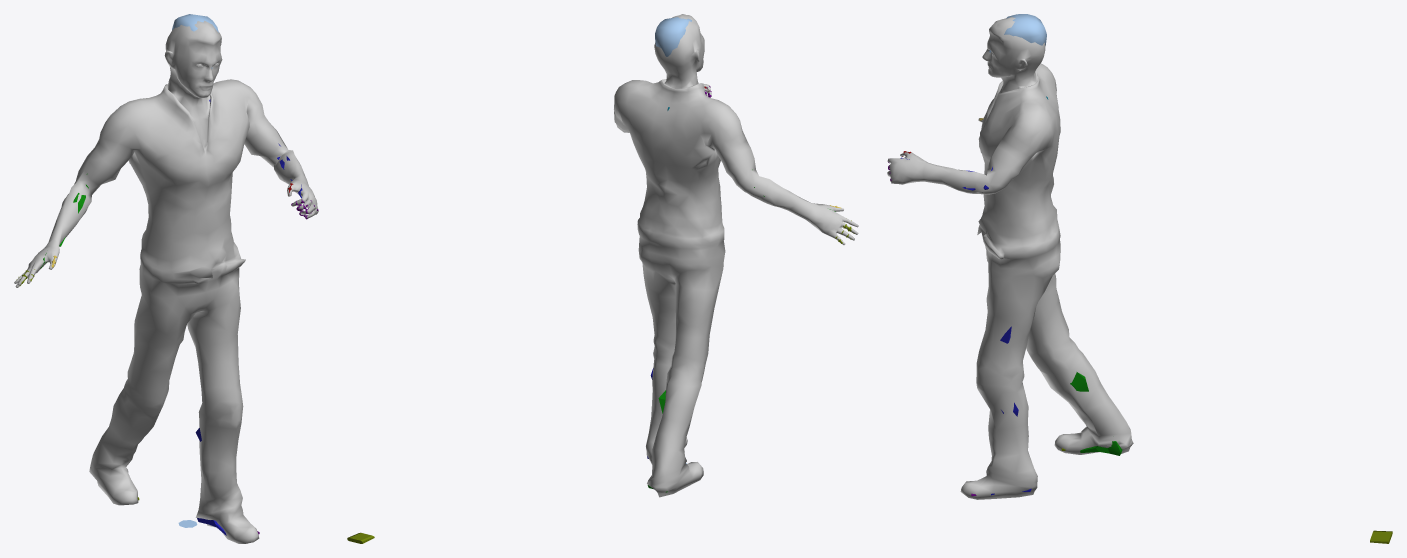
Rendered from UrbanPoliceOfficer.obj.
The picture shows the model from 3 angles, left to right: view 1: azimuth 30°, elevation 25°; view 2: azimuth 150°, elevation 25°; view 3: azimuth 270°, elevation 25°; orthographic projection. The views are drawn at different scales.
Parts seen in each view (by area): view 1: ManPoliceofficer, Bip001_Head; view 2: ManPoliceofficer, Bip001_Head; view 3: ManPoliceofficer, Bip001_Head.
Boxes of the visible parts, x1,y1,x2,y2 form: ManPoliceofficer: [14, 20, 318, 543]; Bip001_Head: [172, 14, 218, 68]; ManPoliceofficer: [614, 14, 858, 497]; Bip001_Head: [655, 17, 691, 56]; ManPoliceofficer: [887, 17, 1133, 499]; Bip001_Head: [989, 14, 1046, 52].
Size of the model in its own units: 52.88 by 70.37 by 68.87.
